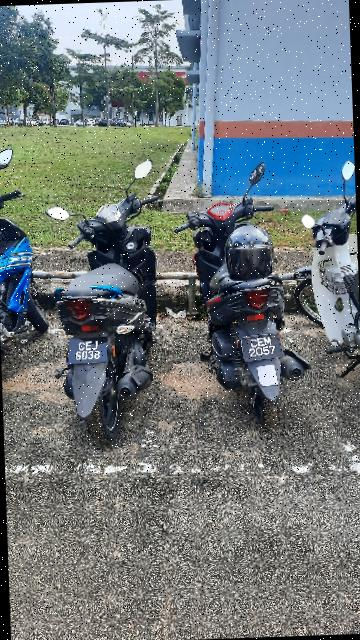License_Plate: (241, 332, 289, 365), (68, 337, 110, 365)
motorcycle: (173, 158, 318, 438), (40, 157, 174, 442)
